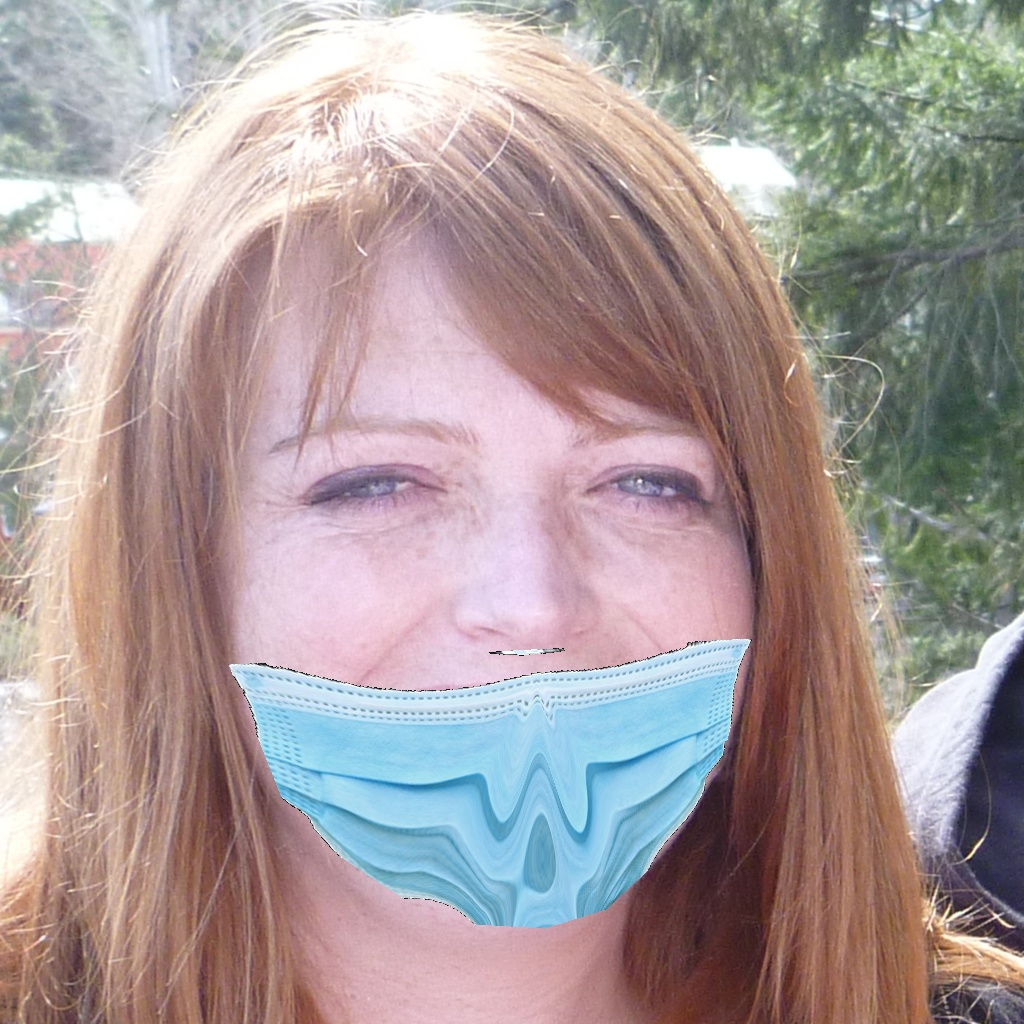mascarilla_mal_puesta: (197, 395, 794, 940)
